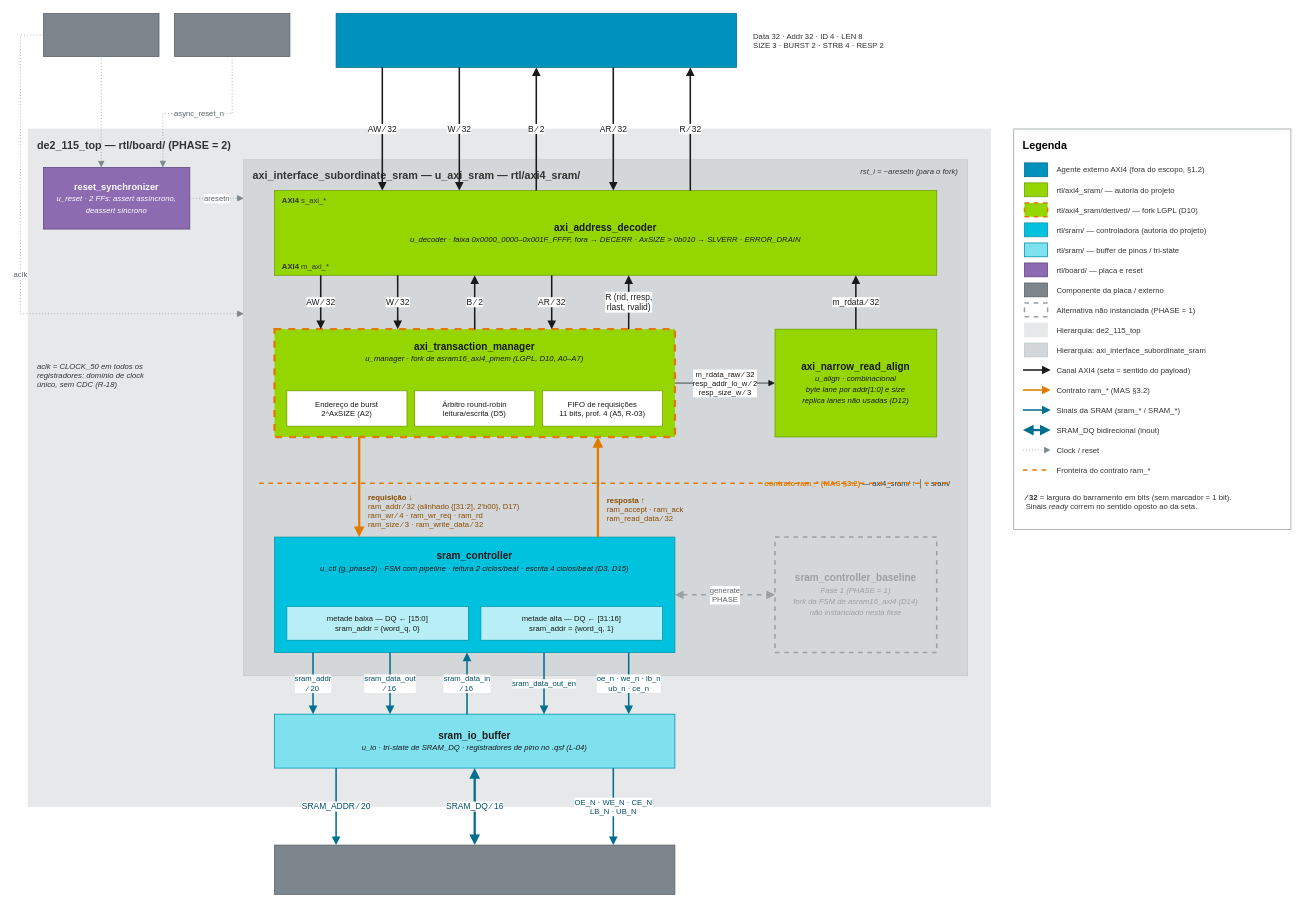
This 1304x908 diagram has some shape labels left out. The centre of each missing label's shape, as x and y in pixels:
CLOCK_50 oscilador 50 MHz (D2): point (101, 35)
KEY[0] reset, ativo-baixo: point (232, 35)
Mestre AXI4 fora do escopo (MAS §1.2) — CPU, DMA ou gerador de tráfego: point (536, 40)
SRAM IS61WV102416BLL externa · 1M × 16 (2 MB) · assíncrona · grau -10 (D8): point (474, 869)
